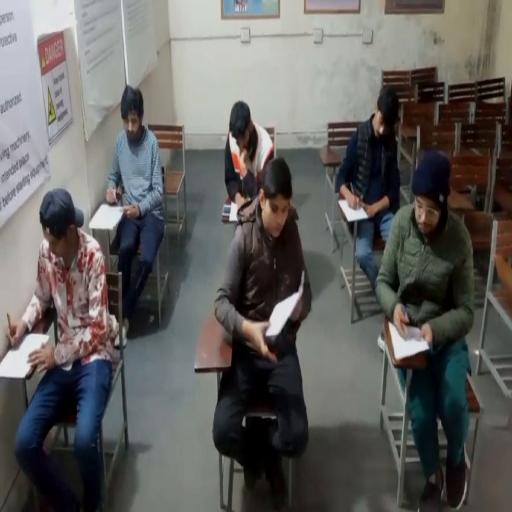paper: (0, 332, 51, 379), (264, 288, 301, 341), (387, 321, 429, 361), (89, 204, 125, 228), (338, 198, 370, 223), (229, 202, 239, 222)
